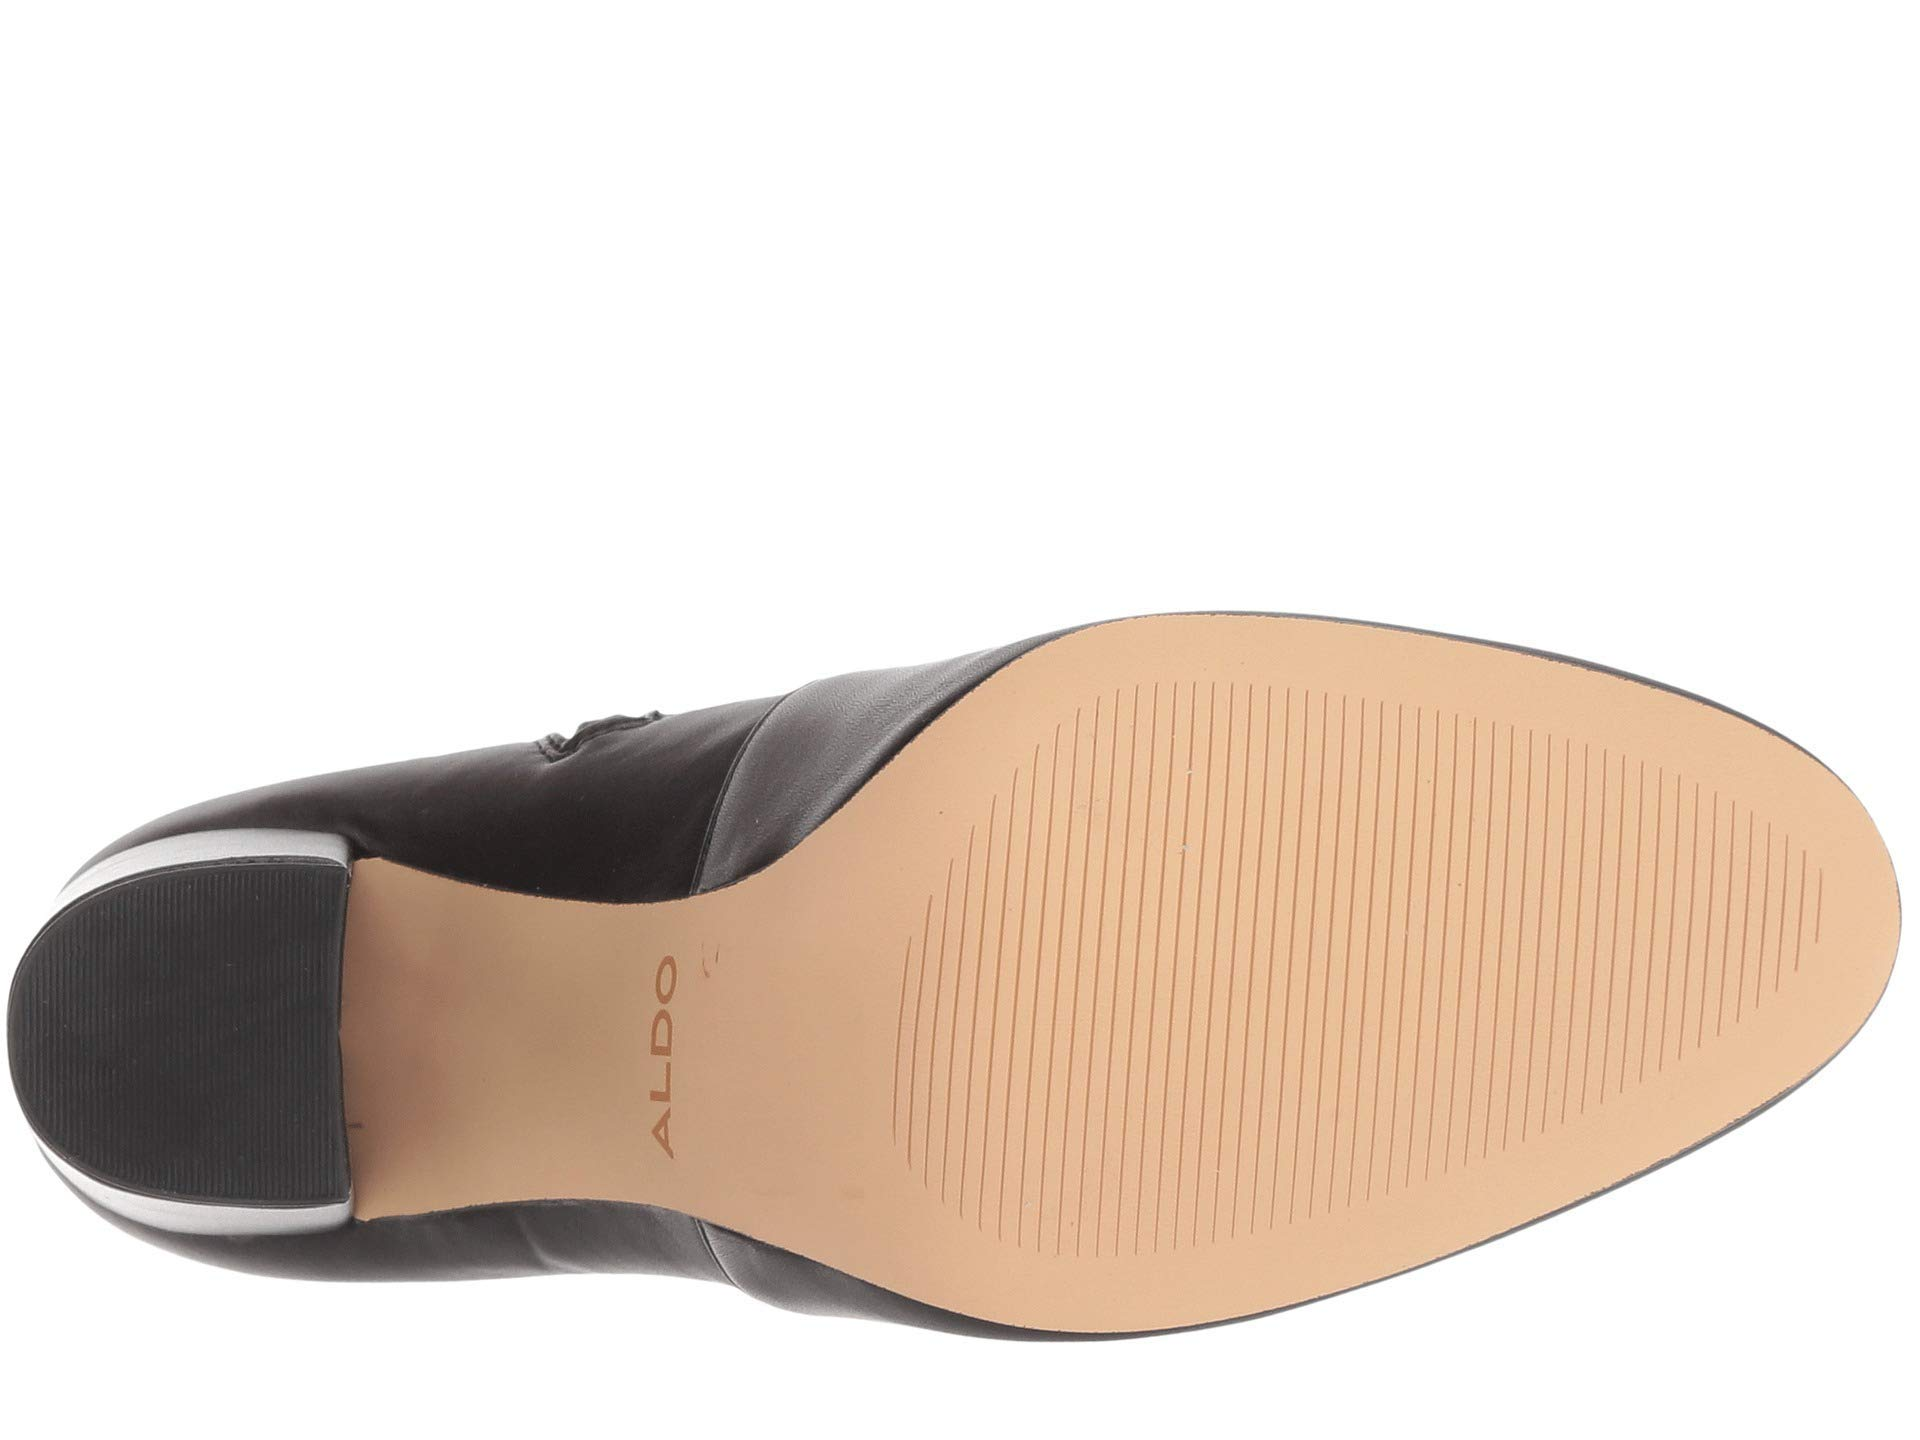line: (1025, 889, 1305, 1154)
